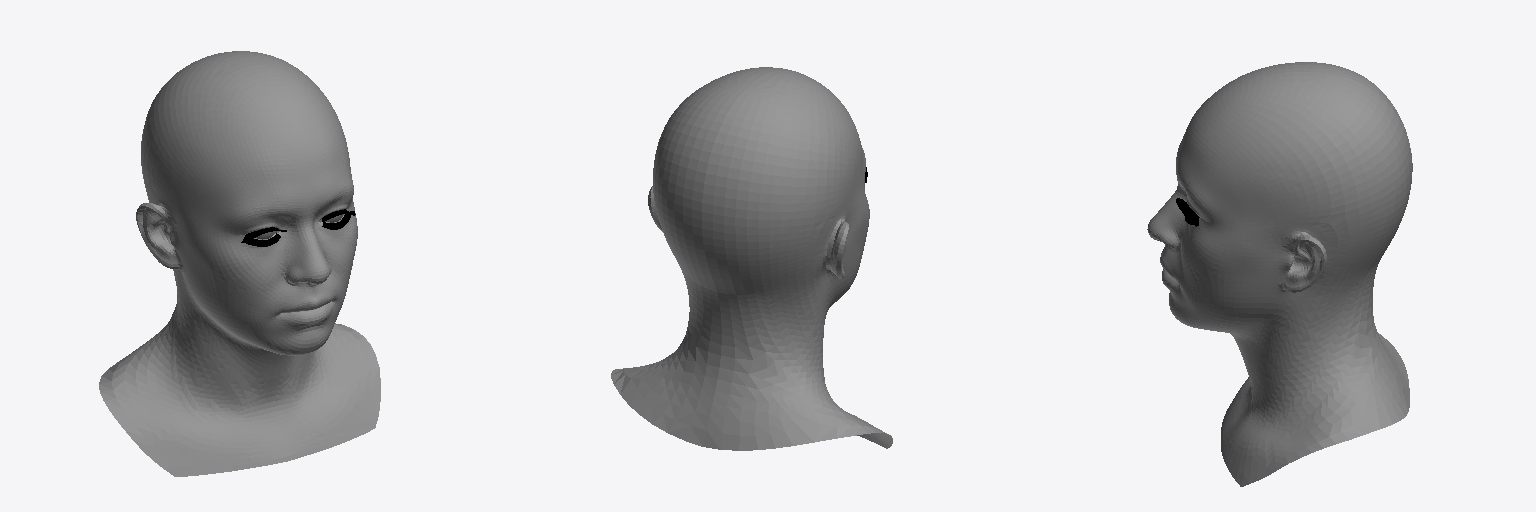
Rendered from identity001.obj.
The picture shows the model from 3 angles: view 1: azimuth 30°, elevation 25°; view 2: azimuth 150°, elevation 25°; view 3: azimuth 270°, elevation 25°; orthographic projection.
Bounding box in the file's own units: 24.72 × 33.18 × 21.61.